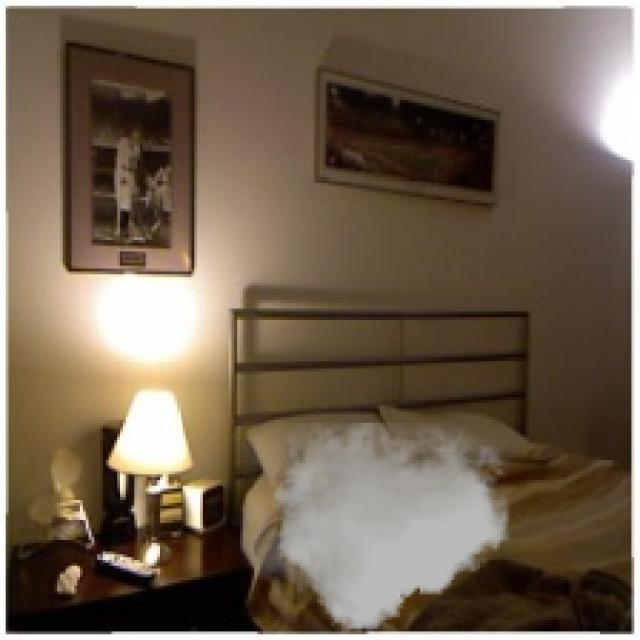Smoke: (242, 423, 514, 631)
